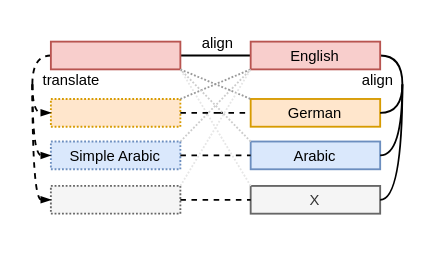
This 448x255 diagram has some shape labels left out. Each missing label, with the centre of its shape:
"Simple English" belongs at point 114,54.
"Simple German" belongs at point 114,112.
"Simple X" belongs at point 114,199.
